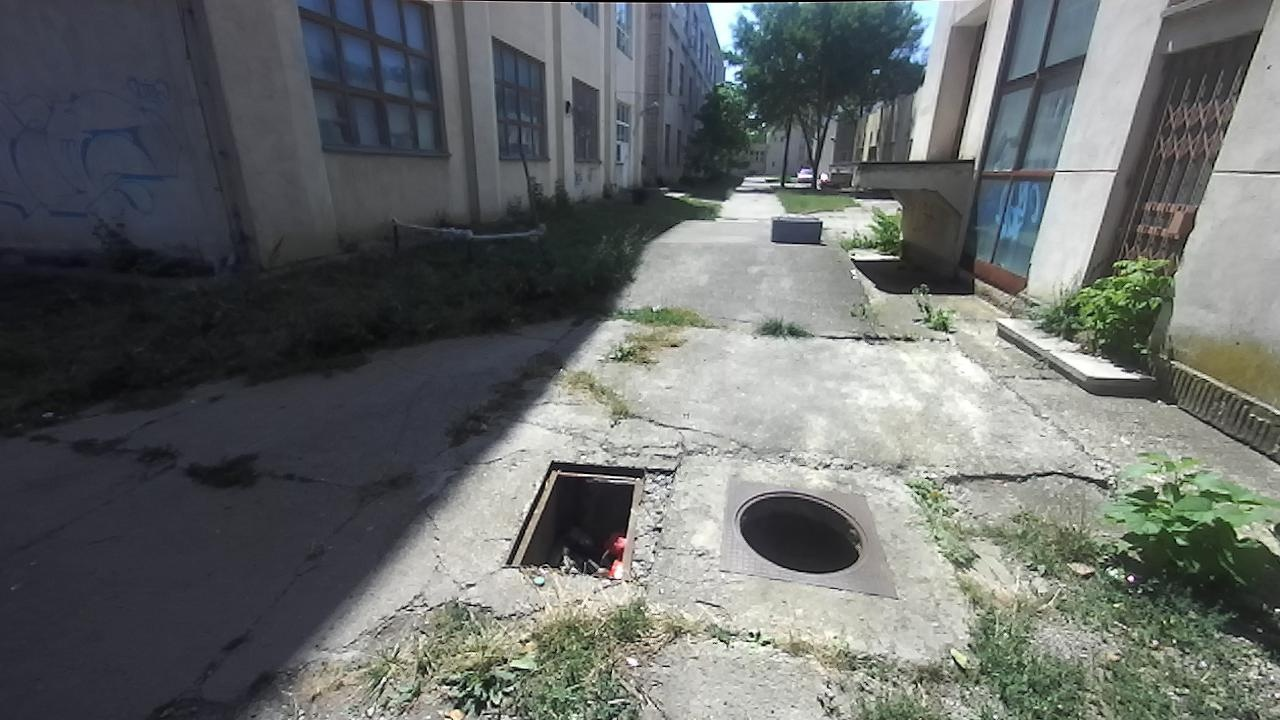drain: (498, 457, 671, 579), (735, 488, 876, 574)
